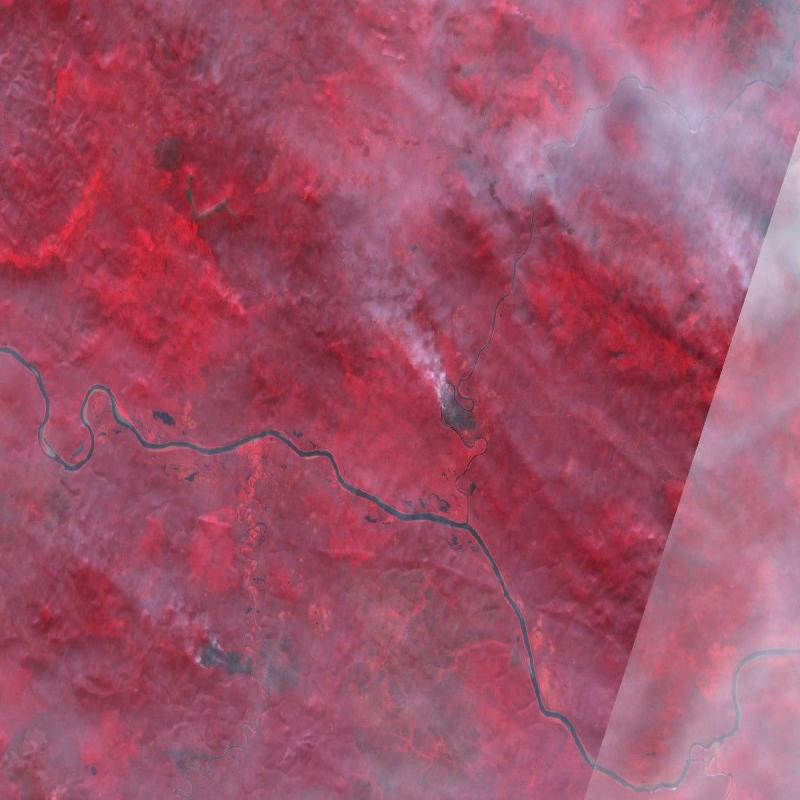fire: (433, 369, 482, 445)
